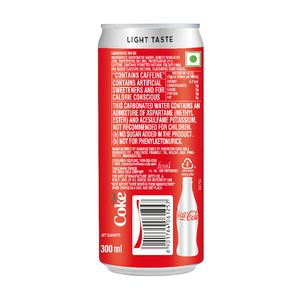coke: (176, 205, 200, 225)
